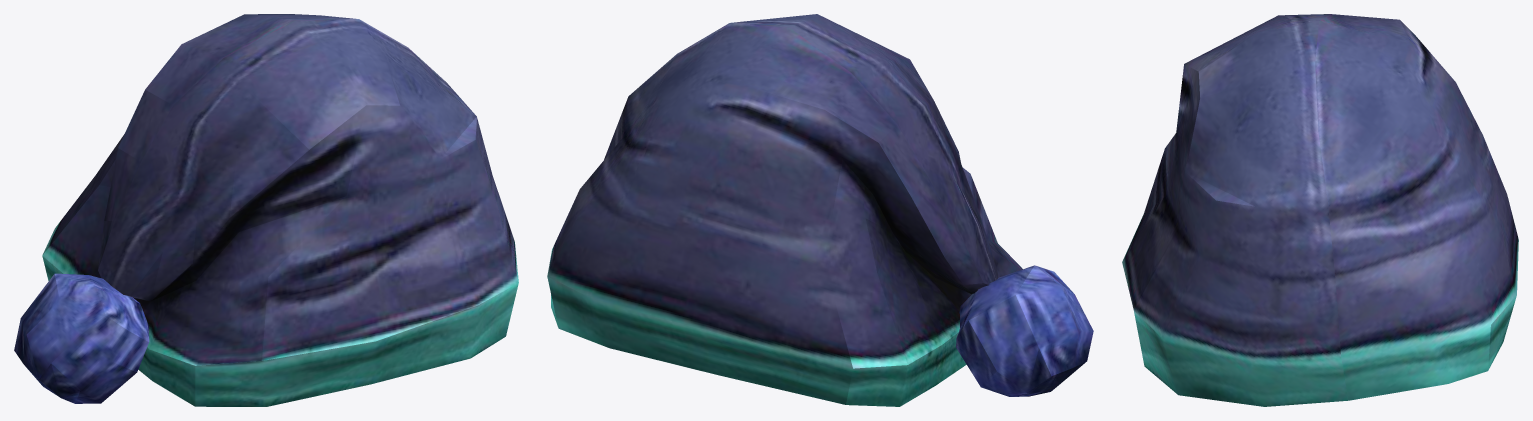
The model's file is sleep_hat.glb.
3 views of the same model, side by side, from view 1: azimuth 30°, elevation 25°; view 2: azimuth 150°, elevation 25°; view 3: azimuth 270°, elevation 25° (orthographic).
Parts seen in each view (by area): view 1: Object_2; view 2: Object_2; view 3: Object_2.
Part boxes in pixels (bbox=[...]): Object_2: bbox=[14, 14, 518, 406]; Object_2: bbox=[547, 14, 1093, 406]; Object_2: bbox=[1122, 14, 1518, 406].
Bounding box in the file's own units: 1.43 × 0.9188 × 1.04.
Materials: 1 (1 with a texture image).
